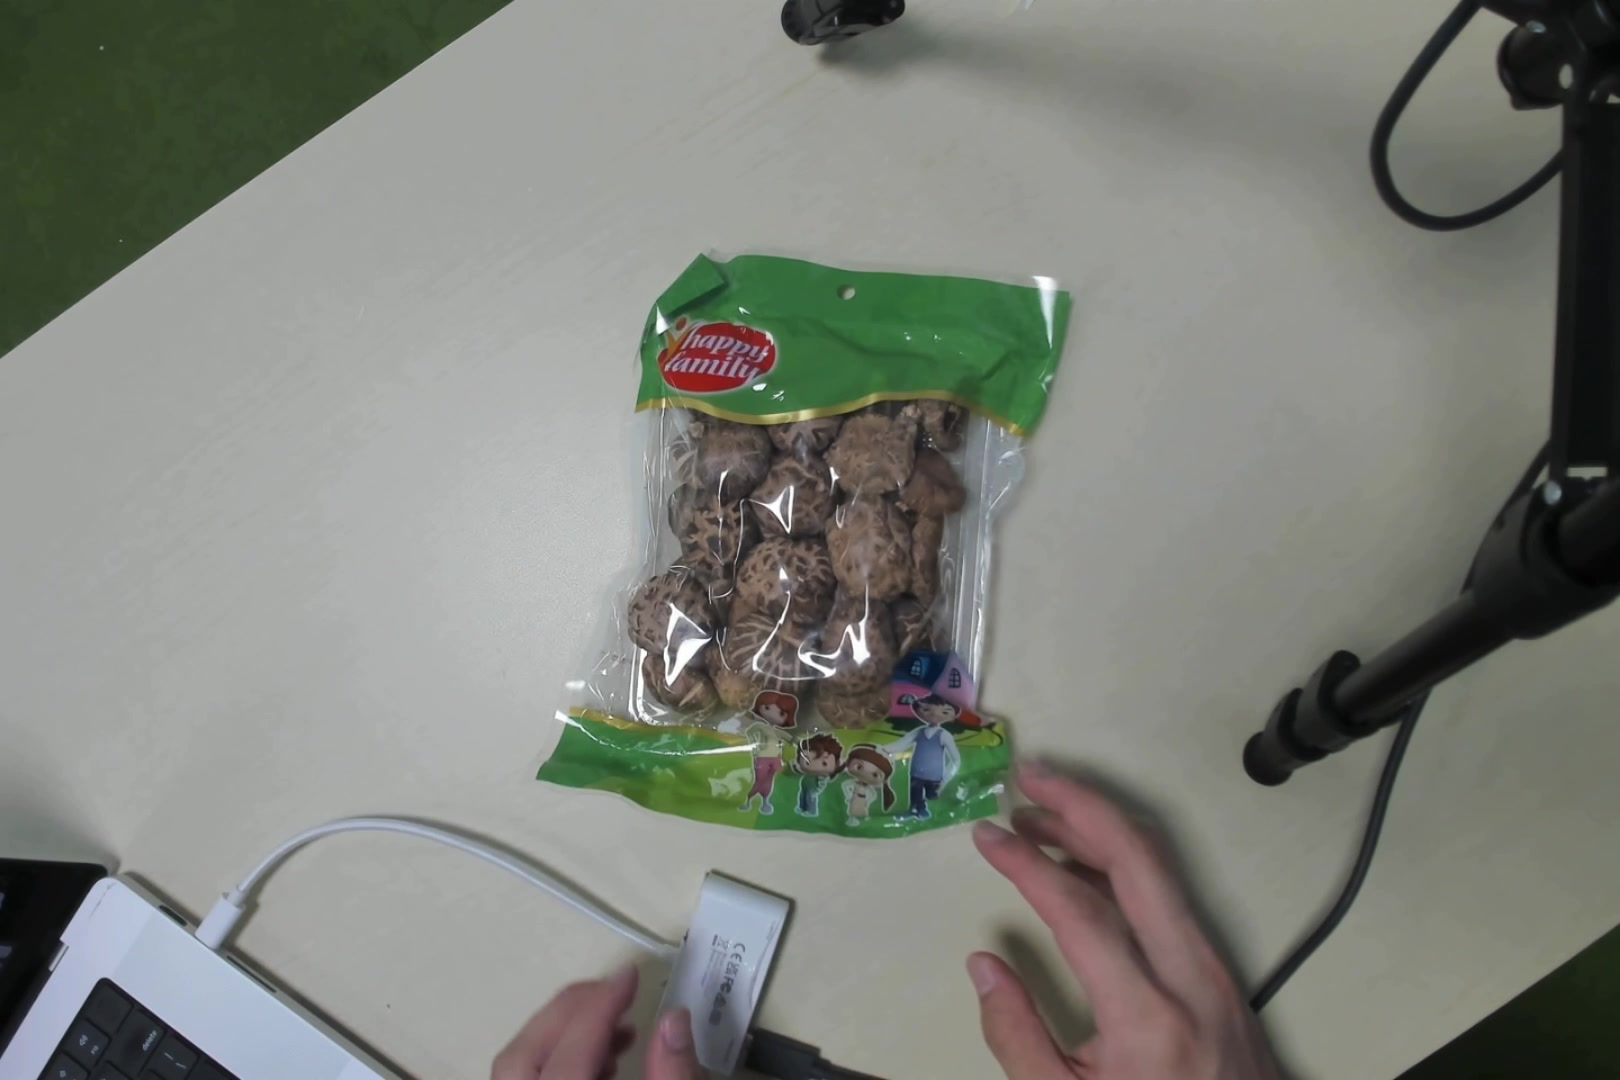OtherDriedFood_100-199g_NonHalal_NonHealthy: (592, 206, 1041, 855)
